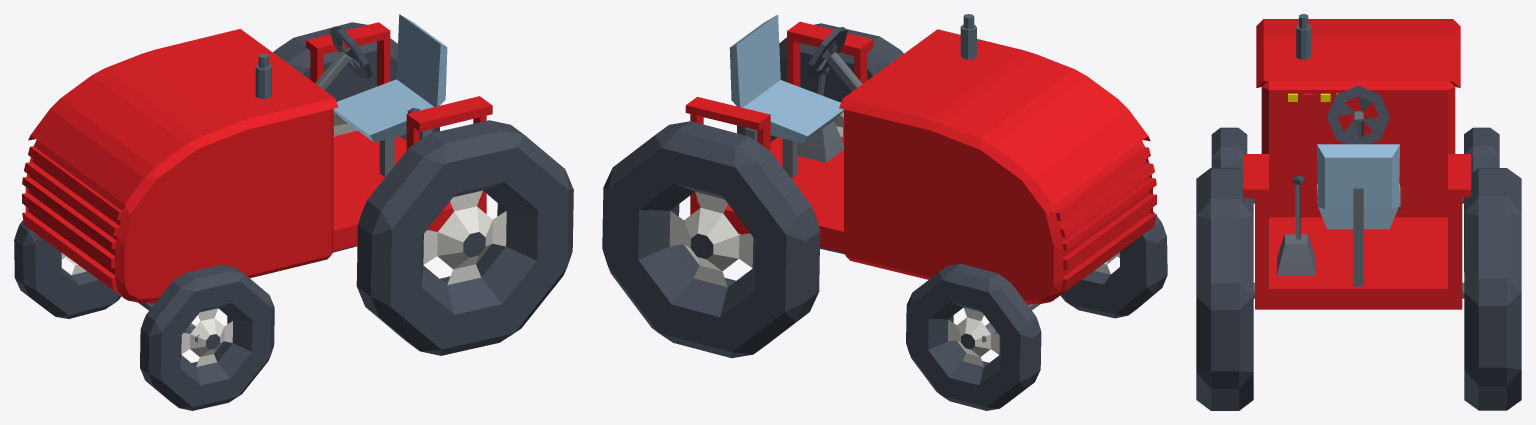
The model's file is farm-tractor-02.obj.
3 renders of one model, left to right at view 1: azimuth 30°, elevation 25°; view 2: azimuth 150°, elevation 25°; view 3: azimuth 270°, elevation 25°, orthographic.
Visible parts, largest first — view 1: farm-tractor-02; view 2: farm-tractor-02; view 3: farm-tractor-02.
Part boxes in pixels (<box>): farm-tractor-02: <box>14,14,573,410</box>; farm-tractor-02: <box>602,14,1167,410</box>; farm-tractor-02: <box>1196,14,1521,410</box>.
Bounding box in the file's own units: 1.56 × 1.03 × 1.01.
